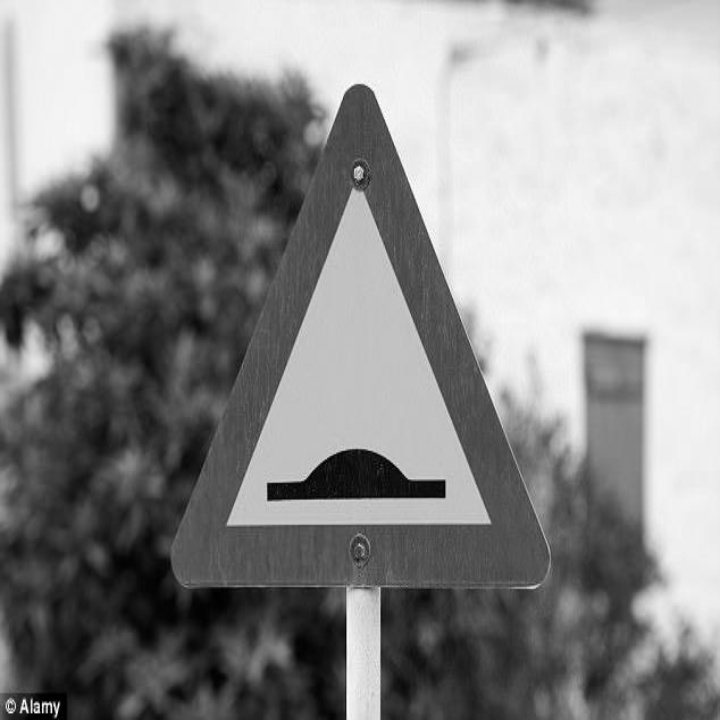bump: (229, 423, 484, 525)
